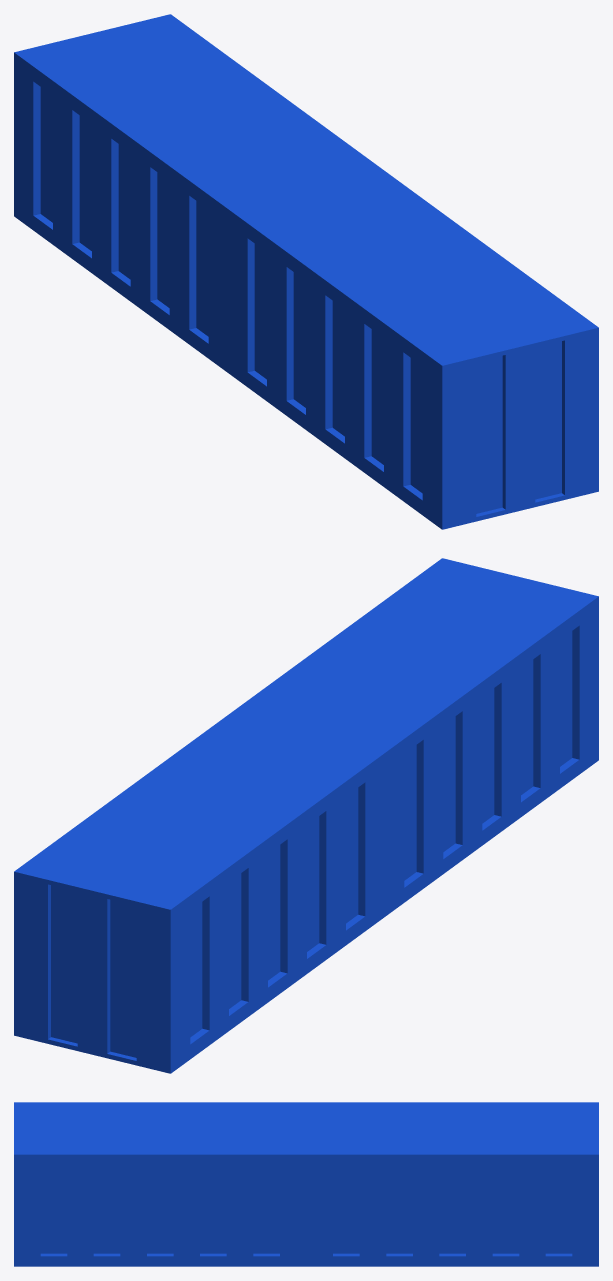
File: konteyner.fbx
The picture shows the model from 3 angles, top to bottom: view 1: azimuth 30°, elevation 25°; view 2: azimuth 150°, elevation 25°; view 3: azimuth 270°, elevation 25°; orthographic projection. The views are drawn at different scales.
Parts seen in each view (by area): view 1: Cube.005; view 2: Cube.005; view 3: Cube.005.
Part boxes in pixels (x1=…): Cube.005: x1=14, y1=14, x2=598, y2=529; Cube.005: x1=14, y1=558, x2=598, y2=1073; Cube.005: x1=14, y1=1102, x2=598, y2=1266.
Bounding box in the file's own units: 860 × 860 × 4071.
